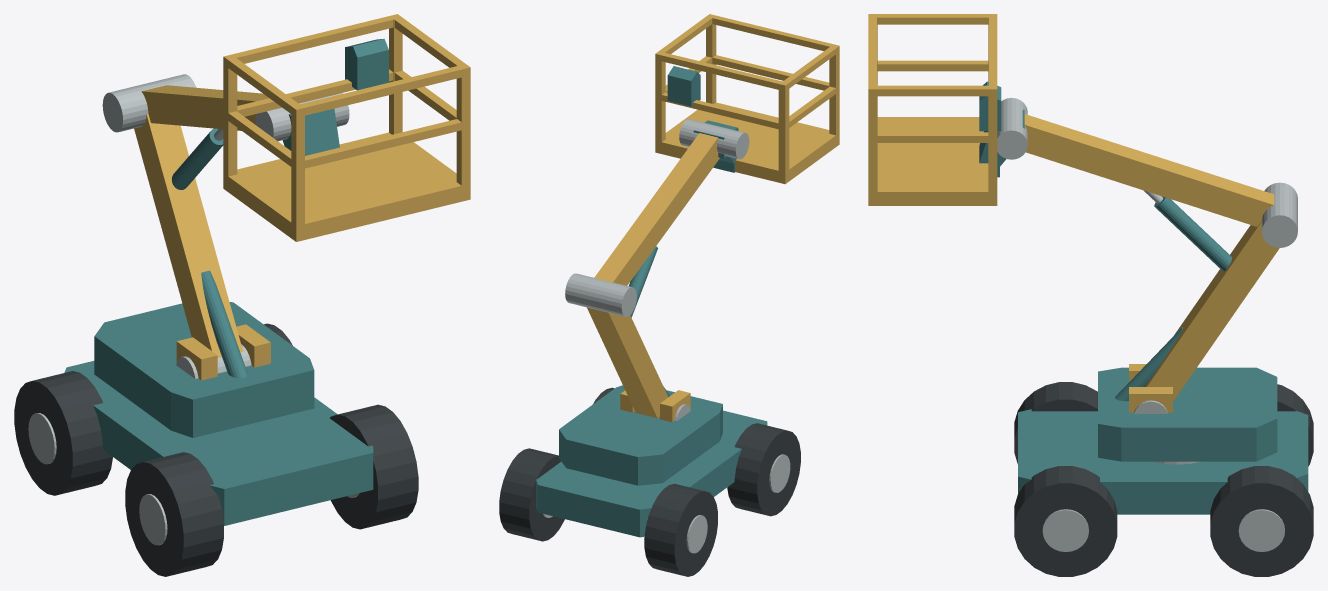
3 renders of one model, left to right at view 1: azimuth 30°, elevation 25°; view 2: azimuth 150°, elevation 25°; view 3: azimuth 270°, elevation 25°, orthographic. The views are drawn at different scales.
Parts seen in each view (by area): view 1: WholeEmptyPerimeterRailWorkBasket, WholeShortChamferedCarrier, WholeUpperCounterweightAndPowerCover, WholeLowerRisingBoom, LeftWholeGroundTyre0, LeftWholeGroundTyre1, RightWholeGroundTyre0, WholeUpperForwardBoom, WholeElbowCrossPivot, LowerWholeFixedCylinder, WholeBasketBlankControlPod, WholePlatformWristAndFloorCarrier (+6 smaller); view 2: WholeEmptyPerimeterRailWorkBasket, WholeUpperCounterweightAndPowerCover, WholeShortChamferedCarrier, WholeUpperForwardBoom, LeftWholeGroundTyre1, LeftWholeGroundTyre0, WholeLowerRisingBoom, RightWholeGroundTyre1, WholeElbowCrossPivot, WholePlatformWristPivot, WholeBasketBlankControlPod, LeftWholeWheelHub0 (+4 smaller); view 3: WholeEmptyPerimeterRailWorkBasket, WholeUpperCounterweightAndPowerCover, WholeShortChamferedCarrier, WholeUpperForwardBoom, RightWholeGroundTyre1, RightWholeGroundTyre0, WholeLowerRisingBoom, LeftWholeGroundTyre0, WholeElbowCrossPivot, ElbowWholeFixedCylinder, RightWholeWheelHub0, RightWholeWheelHub1 (+5 smaller).
Boxes of the visible parts, x1=… form: WholeEmptyPerimeterRailWorkBasket: x1=223, y1=14, x2=470, y2=241; WholeShortChamferedCarrier: x1=64, y1=361, x2=373, y2=525; WholeUpperCounterweightAndPowerCover: x1=94, y1=302, x2=314, y2=437; WholeLowerRisingBoom: x1=134, y1=113, x2=243, y2=357; LeftWholeGroundTyre0: x1=125, y1=452, x2=223, y2=576; LeftWholeGroundTyre1: x1=14, y1=371, x2=112, y2=495; RightWholeGroundTyre0: x1=330, y1=404, x2=418, y2=529; WholeUpperForwardBoom: x1=141, y1=85, x2=268, y2=130; WholeElbowCrossPivot: x1=102, y1=74, x2=196, y2=132; LowerWholeFixedCylinder: x1=201, y1=270, x2=247, y2=378; WholeBasketBlankControlPod: x1=345, y1=38, x2=388, y2=90; WholePlatformWristAndFloorCarrier: x1=283, y1=108, x2=339, y2=155; WholeEmptyPerimeterRailWorkBasket: x1=655, y1=14, x2=839, y2=184; WholeUpperCounterweightAndPowerCover: x1=559, y1=385, x2=722, y2=485; WholeShortChamferedCarrier: x1=536, y1=410, x2=767, y2=537; WholeUpperForwardBoom: x1=594, y1=133, x2=719, y2=285; LeftWholeGroundTyre1: x1=644, y1=483, x2=717, y2=576; LeftWholeGroundTyre0: x1=727, y1=423, x2=800, y2=516; WholeLowerRisingBoom: x1=587, y1=307, x2=668, y2=418; RightWholeGroundTyre1: x1=499, y1=448, x2=564, y2=541; WholeElbowCrossPivot: x1=565, y1=273, x2=636, y2=316; WholePlatformWristPivot: x1=679, y1=119, x2=749, y2=159; WholeBasketBlankControlPod: x1=667, y1=66, x2=700, y2=106; LeftWholeWheelHub0: x1=769, y1=454, x2=790, y2=492; WholeEmptyPerimeterRailWorkBasket: x1=868, y1=14, x2=997, y2=205; WholeUpperCounterweightAndPowerCover: x1=1098, y1=367, x2=1277, y2=461; WholeShortChamferedCarrier: x1=1018, y1=409, x2=1308, y2=514; WholeUpperForwardBoom: x1=1024, y1=114, x2=1274, y2=226; RightWholeGroundTyre1: x1=1210, y1=466, x2=1313, y2=576; RightWholeGroundTyre0: x1=1014, y1=466, x2=1117, y2=576; WholeLowerRisingBoom: x1=1145, y1=221, x2=1279, y2=401; LeftWholeGroundTyre0: x1=1014, y1=382, x2=1097, y2=463; WholeElbowCrossPivot: x1=1262, y1=182, x2=1297, y2=247; ElbowWholeFixedCylinder: x1=1154, y1=196, x2=1232, y2=271; RightWholeWheelHub0: x1=1042, y1=509, x2=1088, y2=551; RightWholeWheelHub1: x1=1238, y1=509, x2=1284, y2=551.
Bounding box in the file's own units: 1.89 × 4.06 × 3.45.
